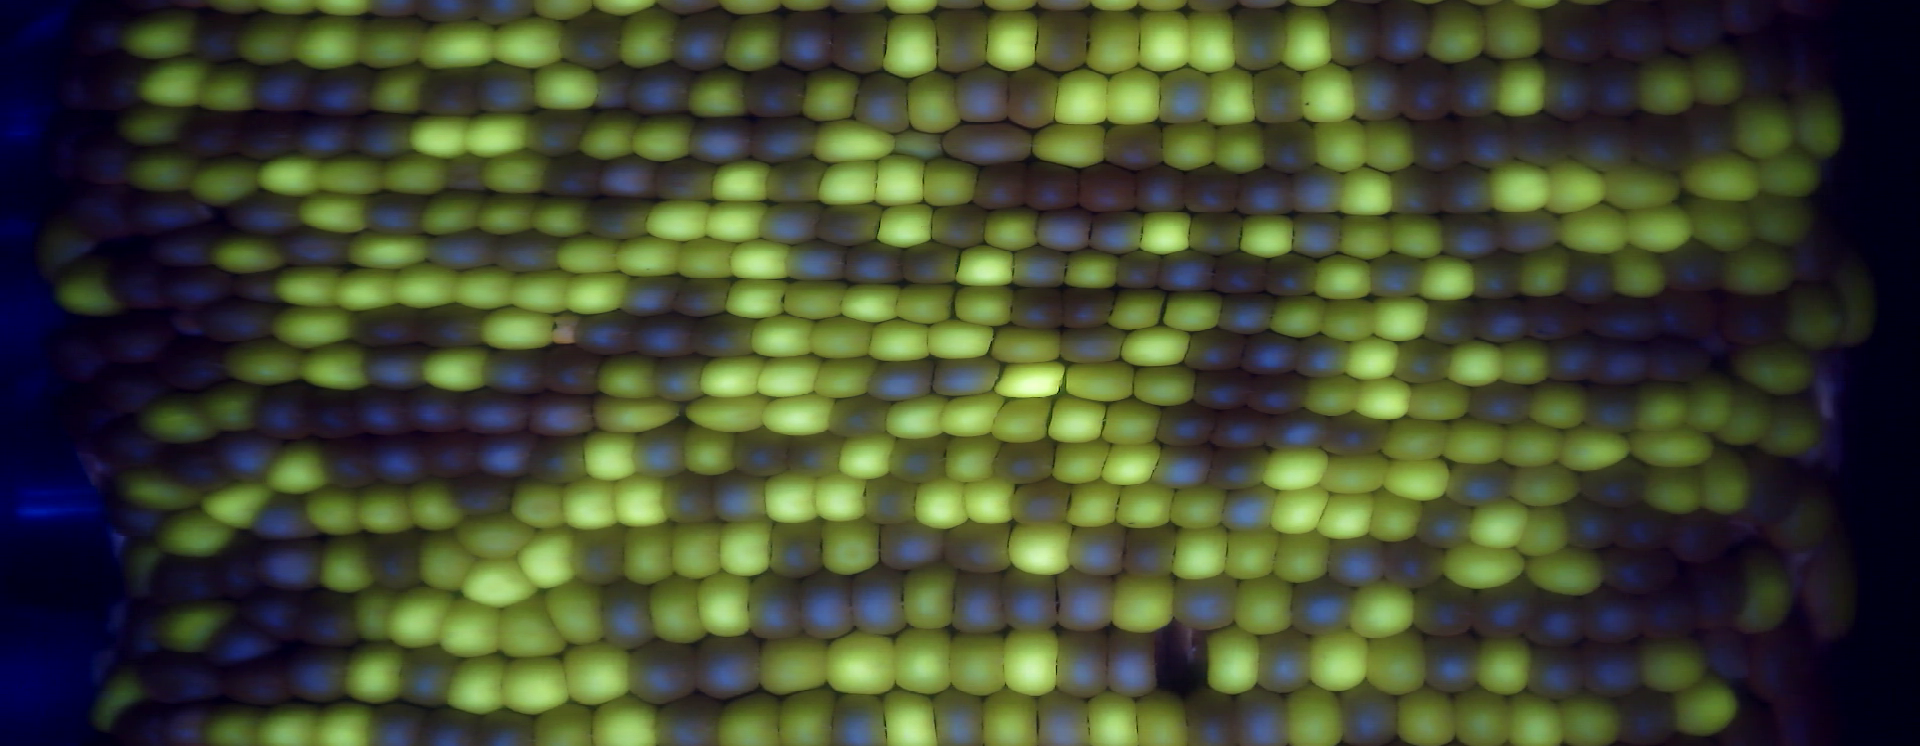fluorescent: (1758, 461, 1840, 557), (1728, 535, 1796, 643), (1802, 543, 1867, 650), (40, 247, 130, 323), (1727, 334, 1824, 403), (1776, 276, 1854, 358), (819, 624, 902, 701), (873, 7, 958, 83), (1826, 245, 1884, 354), (553, 635, 636, 710), (752, 628, 838, 699), (1630, 628, 1716, 699), (1626, 47, 1706, 122), (1727, 91, 1806, 167), (493, 647, 576, 720), (129, 387, 220, 452), (1753, 388, 1833, 463), (1780, 76, 1848, 164), (113, 7, 211, 67), (1101, 568, 1183, 639), (888, 621, 959, 703), (1676, 148, 1771, 209), (411, 10, 502, 73), (214, 330, 311, 388), (151, 505, 247, 563), (511, 521, 587, 595), (1521, 541, 1615, 601), (1198, 620, 1267, 701), (1709, 239, 1801, 300), (107, 462, 211, 516), (29, 212, 103, 288), (1679, 36, 1752, 111), (1304, 624, 1378, 699), (894, 557, 966, 635), (492, 590, 571, 661), (996, 621, 1064, 702), (381, 581, 454, 655), (440, 646, 513, 720), (1224, 571, 1300, 643), (1468, 628, 1540, 704), (1435, 538, 1532, 594), (151, 598, 241, 658), (804, 114, 907, 167), (413, 526, 484, 601), (229, 7, 313, 71), (291, 10, 370, 78), (1599, 156, 1689, 216), (451, 506, 531, 572), (258, 436, 340, 501), (451, 554, 545, 610), (940, 627, 1011, 702), (339, 639, 414, 710), (1480, 156, 1564, 219), (481, 12, 566, 75), (1343, 576, 1423, 642), (433, 590, 506, 663), (692, 566, 759, 643), (197, 474, 278, 538), (206, 225, 295, 283), (615, 519, 687, 590), (1709, 377, 1780, 450), (1362, 628, 1433, 701), (264, 299, 358, 354), (84, 660, 151, 737), (1740, 190, 1820, 254), (1682, 194, 1762, 257), (611, 4, 684, 72), (1046, 62, 1119, 131), (582, 388, 687, 436), (1626, 421, 1722, 474), (1537, 153, 1613, 219), (1693, 443, 1758, 521), (1004, 516, 1082, 579), (1080, 5, 1149, 77), (645, 570, 707, 650), (542, 576, 609, 650), (1667, 673, 1742, 737), (184, 156, 267, 214), (388, 255, 471, 314), (1125, 7, 1198, 75), (899, 66, 966, 138), (1616, 202, 1701, 260), (294, 336, 375, 396), (1277, 682, 1353, 746), (1553, 202, 1638, 258), (973, 684, 1051, 746), (1025, 119, 1112, 174), (1485, 51, 1553, 122), (978, 6, 1044, 78), (1633, 459, 1713, 519), (114, 142, 204, 195), (1280, 2, 1343, 77), (1476, 1, 1550, 65), (1752, 142, 1827, 206), (1551, 424, 1640, 478), (582, 688, 664, 746), (1374, 452, 1457, 508), (354, 11, 433, 70), (133, 54, 213, 113), (344, 224, 440, 273), (673, 390, 771, 437), (709, 687, 789, 746), (716, 10, 791, 72), (189, 56, 263, 119), (609, 228, 693, 283), (1550, 687, 1629, 746), (800, 309, 883, 364), (105, 530, 163, 610), (1464, 496, 1539, 557), (299, 480, 375, 540), (1296, 59, 1363, 126), (759, 463, 827, 530), (1166, 521, 1234, 587), (1267, 524, 1336, 590), (817, 513, 883, 582), (609, 468, 678, 533), (1605, 241, 1675, 306), (711, 516, 782, 579), (1449, 682, 1520, 746), (770, 684, 842, 746), (478, 145, 557, 201), (1498, 687, 1573, 746), (1439, 412, 1520, 467), (267, 261, 351, 314), (1375, 415, 1460, 468), (527, 55, 604, 113), (576, 104, 647, 167), (1393, 684, 1464, 746), (574, 425, 647, 486), (347, 480, 419, 541), (1059, 354, 1141, 408), (1505, 461, 1587, 514), (459, 107, 538, 163), (504, 265, 583, 321), (326, 262, 411, 314), (1256, 440, 1336, 495), (798, 61, 864, 127), (291, 186, 378, 236), (666, 516, 729, 586), (478, 301, 558, 355), (193, 379, 264, 440), (876, 685, 947, 746), (400, 108, 478, 164), (1314, 447, 1398, 499), (684, 62, 757, 122), (627, 108, 700, 167), (1185, 2, 1243, 77), (1100, 64, 1164, 130), (508, 468, 573, 534), (469, 187, 549, 241), (306, 149, 389, 201), (1129, 684, 1198, 746), (1495, 416, 1572, 472), (560, 470, 624, 535), (591, 347, 662, 405), (1524, 376, 1596, 435), (1097, 393, 1169, 451), (1220, 523, 1286, 586), (1081, 685, 1149, 746), (1363, 486, 1430, 548), (1422, 1, 1490, 61), (984, 320, 1070, 367), (673, 423, 744, 480), (1440, 337, 1511, 394), (988, 393, 1060, 450), (923, 314, 1000, 366), (1397, 377, 1478, 428), (806, 465, 869, 529), (313, 530, 377, 594), (1359, 113, 1422, 178), (1630, 379, 1703, 434), (1202, 64, 1262, 131), (362, 62, 430, 122), (1266, 483, 1335, 541), (247, 695, 326, 746), (915, 154, 989, 208), (444, 261, 519, 315), (936, 390, 1010, 443), (1041, 435, 1116, 489), (1307, 250, 1381, 304), (1161, 285, 1232, 342), (380, 146, 456, 198), (697, 350, 773, 403), (760, 390, 836, 442), (989, 359, 1078, 404), (414, 186, 486, 241), (1682, 367, 1738, 440), (909, 472, 973, 533), (752, 349, 829, 401), (1333, 160, 1400, 220), (1307, 116, 1374, 175), (640, 194, 715, 246), (809, 352, 884, 404), (1096, 437, 1171, 490), (813, 154, 883, 211), (1231, 208, 1300, 265), (949, 282, 1019, 338), (669, 230, 740, 285), (1299, 367, 1370, 423), (255, 148, 331, 200), (116, 100, 196, 149), (720, 273, 800, 322), (305, 697, 384, 746), (1209, 118, 1273, 178), (1044, 392, 1113, 448), (1331, 208, 1400, 265), (1348, 371, 1418, 426), (834, 428, 905, 481), (1512, 243, 1576, 303), (402, 474, 467, 533), (1385, 206, 1450, 265), (778, 274, 853, 325), (887, 276, 959, 328), (419, 342, 491, 394), (347, 582, 403, 649), (864, 315, 938, 366), (1416, 250, 1484, 305), (1316, 293, 1385, 348), (525, 187, 595, 241), (1111, 479, 1180, 533), (1513, 501, 1575, 562), (868, 153, 932, 212), (1156, 116, 1221, 174), (1100, 285, 1176, 334), (699, 195, 771, 246), (879, 391, 951, 442), (726, 232, 800, 282), (747, 311, 820, 361), (1128, 361, 1201, 412), (959, 469, 1018, 532), (1114, 323, 1195, 369), (1314, 488, 1379, 544), (1164, 481, 1232, 535), (1367, 290, 1434, 344), (836, 278, 909, 328), (552, 229, 628, 277), (527, 698, 602, 746), (1494, 331, 1555, 390), (705, 156, 775, 207), (943, 432, 1007, 489), (560, 269, 634, 317), (873, 200, 939, 254), (1131, 205, 1198, 258), (1060, 477, 1124, 532), (197, 698, 269, 746), (977, 203, 1046, 254), (951, 240, 1021, 289), (1338, 334, 1406, 385), (1264, 292, 1332, 341), (1057, 243, 1123, 292), (882, 125, 949, 163)
nonfluorescent: (126, 644, 223, 710), (1749, 616, 1820, 706), (1735, 2, 1800, 98), (99, 243, 180, 318), (113, 187, 219, 244), (622, 635, 703, 708), (1738, 446, 1809, 528), (1678, 559, 1753, 635), (88, 475, 171, 544), (49, 379, 133, 446), (845, 559, 911, 644), (1716, 287, 1798, 355), (39, 40, 107, 124), (1622, 103, 1700, 175), (740, 566, 809, 646), (795, 568, 864, 648), (276, 646, 359, 712), (1168, 566, 1243, 639), (1100, 626, 1168, 706), (1329, 679, 1409, 746), (91, 307, 181, 367), (1049, 624, 1116, 706), (691, 628, 764, 702), (994, 563, 1064, 639), (245, 535, 333, 595), (140, 554, 231, 611), (1596, 1, 1674, 69), (151, 334, 230, 401), (1537, 2, 1616, 69), (598, 575, 662, 655), (770, 5, 841, 78), (945, 567, 1016, 641), (1472, 575, 1548, 643), (298, 60, 378, 124), (1409, 575, 1482, 646), (65, 121, 140, 190), (1414, 628, 1489, 697), (1251, 624, 1319, 699), (1284, 573, 1362, 639), (1502, 110, 1582, 174), (924, 5, 996, 76), (1389, 53, 1460, 124), (1024, 5, 1093, 77), (940, 118, 1038, 169), (1369, 1, 1442, 70), (88, 44, 154, 120), (1573, 583, 1651, 648), (1518, 642, 1597, 706), (845, 69, 915, 140), (43, 316, 114, 386), (1534, 58, 1605, 127), (62, 180, 141, 243), (876, 514, 954, 577), (564, 522, 634, 592), (392, 642, 460, 713), (156, 439, 240, 496), (1227, 2, 1293, 76), (220, 187, 309, 243), (942, 517, 1015, 583), (1442, 50, 1507, 125), (1656, 236, 1731, 300), (623, 60, 700, 122), (1789, 209, 1851, 287), (1178, 677, 1248, 746), (344, 301, 435, 354), (1566, 111, 1640, 176), (453, 387, 538, 443), (154, 262, 242, 316), (227, 107, 305, 167), (1664, 507, 1742, 567), (999, 64, 1067, 134), (362, 529, 432, 597), (1226, 679, 1296, 746), (553, 9, 624, 75), (411, 300, 495, 356), (1648, 285, 1731, 342), (290, 586, 364, 649), (1582, 294, 1673, 345), (186, 4, 255, 71), (245, 376, 313, 443), (1052, 567, 1120, 635), (1597, 546, 1682, 600), (827, 6, 890, 78), (1325, 1, 1389, 73), (196, 619, 283, 671), (1572, 458, 1657, 512), (664, 7, 731, 75), (949, 62, 1018, 129), (1523, 590, 1593, 655), (107, 598, 170, 669), (1453, 111, 1524, 175), (534, 341, 607, 402), (91, 363, 174, 416), (1609, 686, 1684, 746), (1438, 458, 1524, 510), (519, 104, 595, 163), (651, 688, 729, 746), (738, 62, 811, 124), (211, 426, 283, 488), (824, 685, 896, 746), (1409, 494, 1482, 555), (683, 306, 762, 363), (249, 58, 322, 118), (1070, 158, 1144, 218), (234, 586, 309, 644), (1319, 534, 1393, 593), (217, 657, 296, 712), (1095, 119, 1171, 176), (1062, 521, 1130, 584), (1577, 638, 1646, 702), (268, 223, 355, 273), (195, 296, 282, 347), (416, 62, 486, 125), (316, 432, 386, 495), (624, 423, 696, 484), (651, 469, 722, 530), (359, 186, 436, 243), (396, 382, 473, 439), (519, 392, 604, 443), (469, 58, 541, 118), (525, 431, 598, 491), (470, 425, 544, 484), (244, 488, 322, 543), (1398, 118, 1472, 176), (169, 107, 245, 163), (964, 157, 1035, 217), (1176, 160, 1247, 220), (347, 383, 419, 442), (1029, 687, 1101, 746), (1656, 1, 1729, 59), (1587, 334, 1660, 392), (765, 517, 830, 582), (1679, 99, 1744, 164), (926, 684, 993, 746), (1249, 62, 1310, 131), (1020, 156, 1089, 217), (1349, 59, 1411, 127), (1580, 380, 1648, 441), (748, 113, 824, 168), (361, 432, 433, 490), (578, 191, 655, 245), (64, 1, 137, 58), (1433, 158, 1499, 220), (568, 310, 647, 363), (355, 339, 433, 392), (298, 385, 365, 446), (814, 197, 889, 252), (1120, 522, 1180, 590), (1608, 502, 1680, 559), (1381, 537, 1453, 593), (1461, 377, 1538, 430), (1318, 410, 1395, 463), (146, 222, 227, 272), (420, 225, 502, 274), (926, 352, 1008, 401), (418, 428, 487, 485), (591, 151, 662, 207), (1127, 160, 1198, 217), (474, 344, 550, 397), (1258, 405, 1333, 458), (1153, 65, 1216, 129), (1258, 114, 1321, 176), (1584, 58, 1646, 122), (707, 468, 773, 528), (289, 111, 362, 165), (1234, 163, 1302, 222), (1151, 398, 1224, 452), (1559, 495, 1626, 554), (489, 228, 567, 278), (779, 236, 853, 289), (1633, 586, 1703, 642), (684, 111, 756, 167), (752, 198, 828, 250), (1289, 160, 1353, 222), (1204, 442, 1276, 496), (89, 420, 167, 470), (989, 437, 1067, 488), (1641, 336, 1718, 386), (624, 310, 698, 363), (1385, 165, 1453, 222), (861, 356, 939, 405), (535, 149, 606, 203), (1560, 246, 1621, 309), (731, 425, 796, 484), (858, 472, 923, 530), (203, 544, 268, 603), (1539, 330, 1604, 388), (885, 432, 951, 490), (1466, 296, 1538, 349), (649, 153, 718, 208), (839, 240, 912, 292), (1438, 208, 1506, 263), (1494, 206, 1567, 257), (446, 472, 520, 522), (347, 110, 418, 163), (1005, 240, 1073, 295), (1524, 292, 1593, 345), (1004, 478, 1078, 528), (1147, 440, 1217, 492), (103, 693, 173, 746), (616, 272, 691, 321), (1209, 245, 1273, 301), (1157, 244, 1224, 298), (1244, 367, 1311, 421), (361, 696, 433, 746), (1423, 292, 1484, 350), (924, 198, 989, 254), (1183, 323, 1248, 379), (1057, 320, 1129, 369), (898, 236, 966, 288), (1260, 247, 1324, 303), (784, 429, 847, 484), (1213, 288, 1280, 341), (1216, 484, 1282, 537), (1389, 338, 1456, 390), (760, 154, 829, 205), (1183, 207, 1247, 261), (1031, 205, 1095, 258), (1364, 250, 1429, 303), (1002, 281, 1068, 332), (669, 271, 736, 321), (411, 702, 487, 746), (1057, 282, 1122, 333), (1238, 328, 1303, 380), (1187, 364, 1251, 415), (1085, 208, 1151, 258), (1210, 404, 1276, 454), (649, 352, 707, 409), (1700, 626, 1757, 684), (1468, 247, 1528, 303), (823, 392, 891, 440), (1287, 207, 1344, 263), (1296, 332, 1357, 383), (473, 706, 542, 746), (585, 62, 636, 118), (438, 149, 493, 200), (156, 698, 213, 746), (1109, 246, 1166, 294), (1712, 1, 1776, 39), (229, 267, 285, 307)
